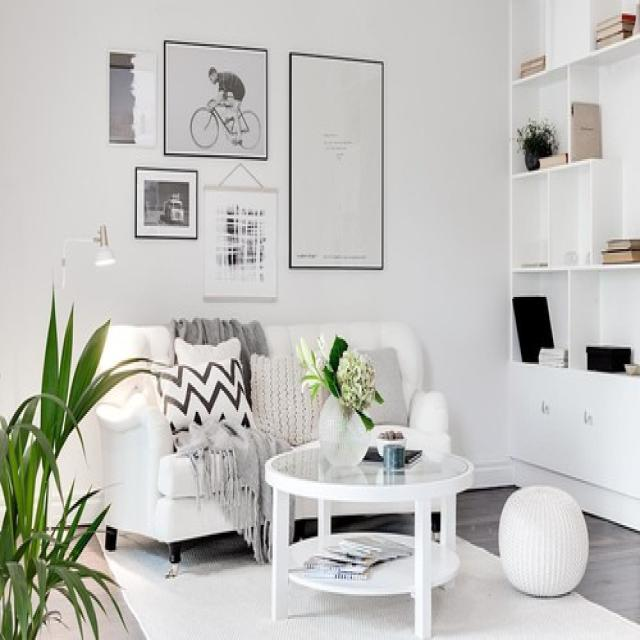white shelf: (502, 4, 640, 514)
white sofa: (81, 313, 435, 567)
